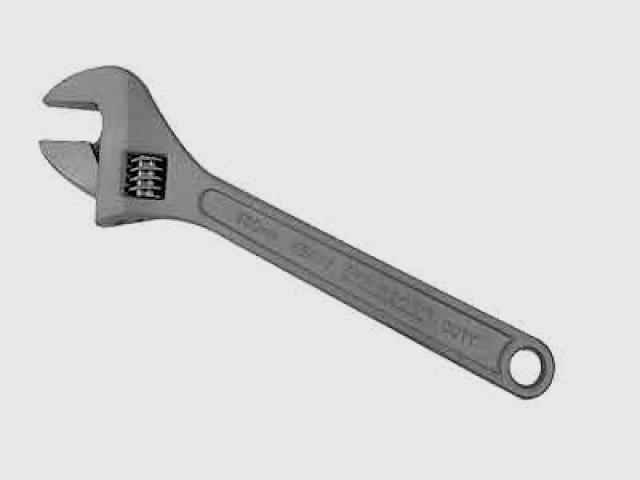Adjustable spanner: (40, 66, 554, 398)
